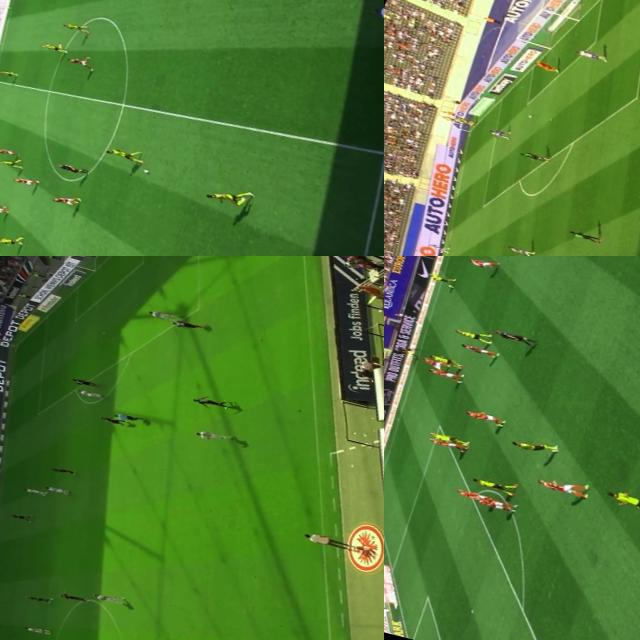ball: (140, 166, 151, 173), (524, 112, 534, 118)
player: (204, 180, 256, 210), (536, 473, 592, 499), (469, 472, 519, 494), (511, 435, 558, 455), (604, 490, 640, 513), (193, 424, 234, 444), (188, 392, 231, 411), (454, 487, 497, 505), (562, 226, 602, 244), (428, 364, 468, 382), (426, 434, 466, 452), (472, 494, 513, 511), (104, 144, 142, 162), (466, 409, 506, 425), (426, 430, 466, 446), (460, 342, 499, 358), (452, 326, 490, 342), (0, 150, 29, 170), (424, 270, 458, 287), (144, 306, 180, 322), (170, 316, 206, 332), (430, 352, 466, 368), (51, 190, 82, 208), (96, 412, 129, 428), (92, 589, 125, 605), (66, 52, 96, 68), (40, 38, 70, 54), (465, 256, 497, 271), (504, 242, 538, 256), (574, 48, 608, 62), (417, 355, 451, 369), (61, 18, 90, 34), (485, 124, 514, 140), (0, 230, 25, 248), (24, 590, 54, 605), (14, 172, 42, 188), (22, 483, 51, 498), (23, 622, 54, 636), (68, 374, 98, 388), (57, 590, 88, 603), (531, 60, 561, 73), (51, 462, 78, 476), (517, 149, 546, 162), (427, 242, 452, 254), (78, 386, 102, 398), (46, 484, 68, 495), (9, 510, 32, 520), (0, 66, 18, 78), (0, 145, 18, 156), (0, 203, 6, 214)
